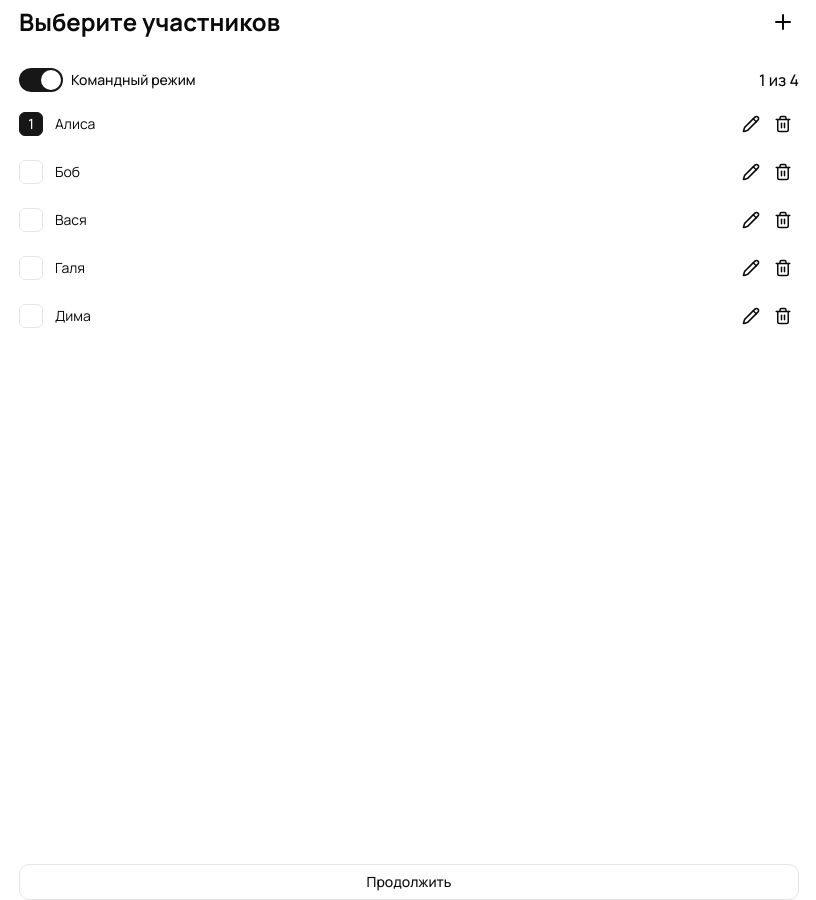
Test: Participants page › hides the selection counter when team mode is turned off
This screenshot has width=816, height=900.
Expected: the text "1 из 4" is shown, [759,68,799,92]
Step 1. Click the switch named "Командный режим" → (41,80), box [19,68,63,92]
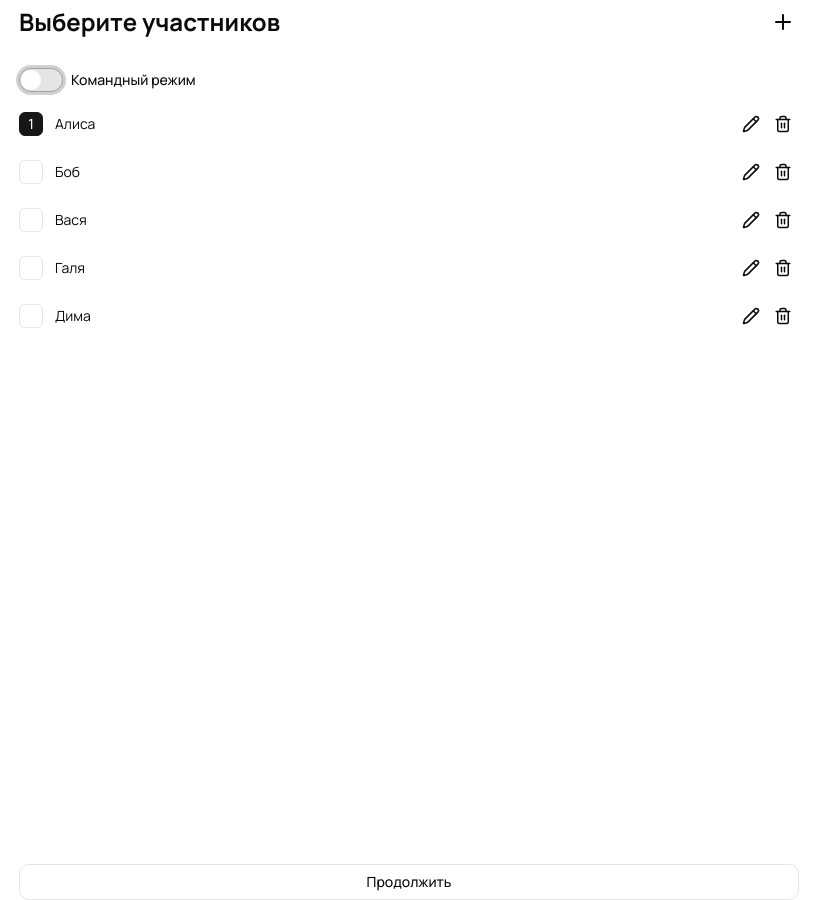
Now the text "1 из 4" is gone
